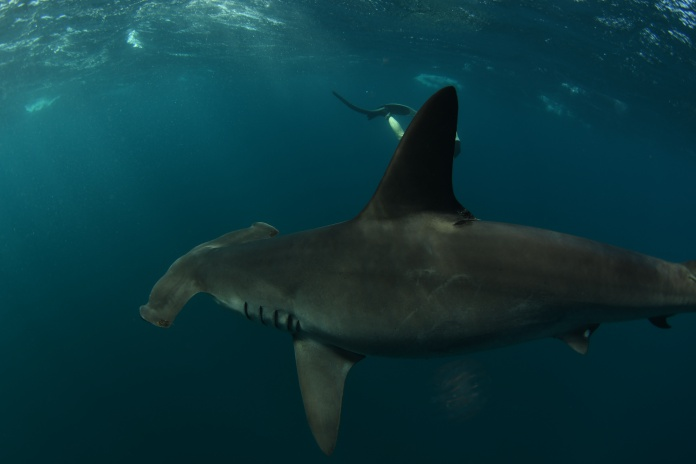Hammer: (121, 82, 696, 462)
